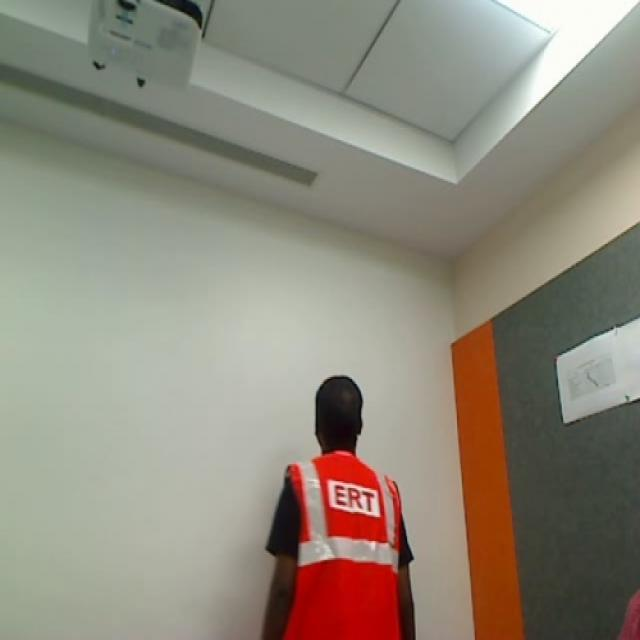safety_helmet: (272, 452, 410, 640)
